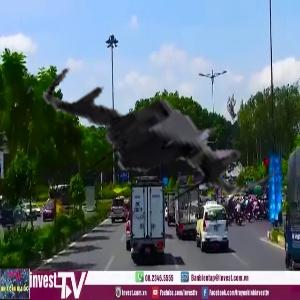drone: (38, 27, 265, 254)
